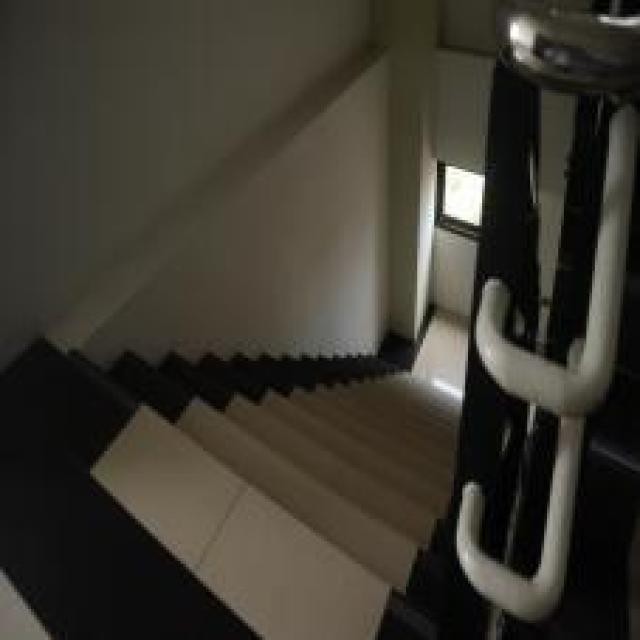downstair: (145, 289, 441, 638)
